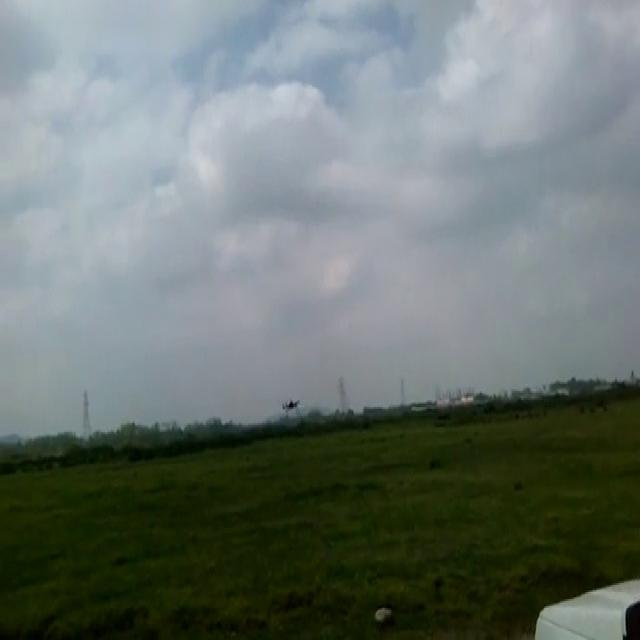drone: (280, 393, 303, 414)
